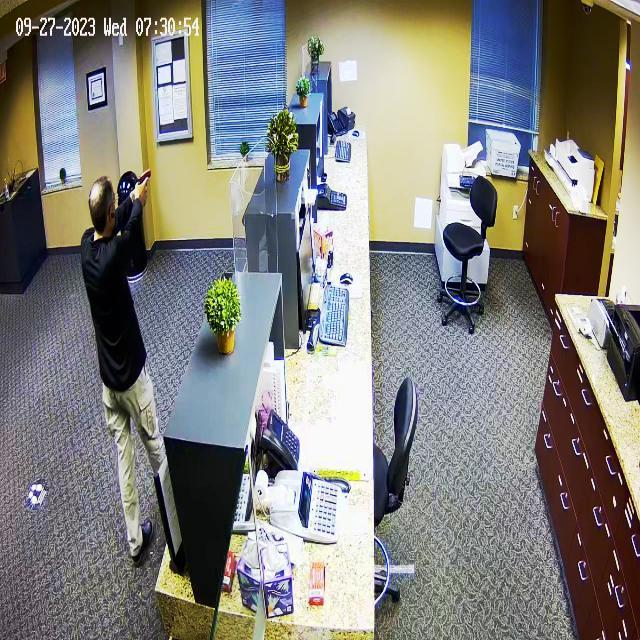Gun: (126, 160, 168, 208)
